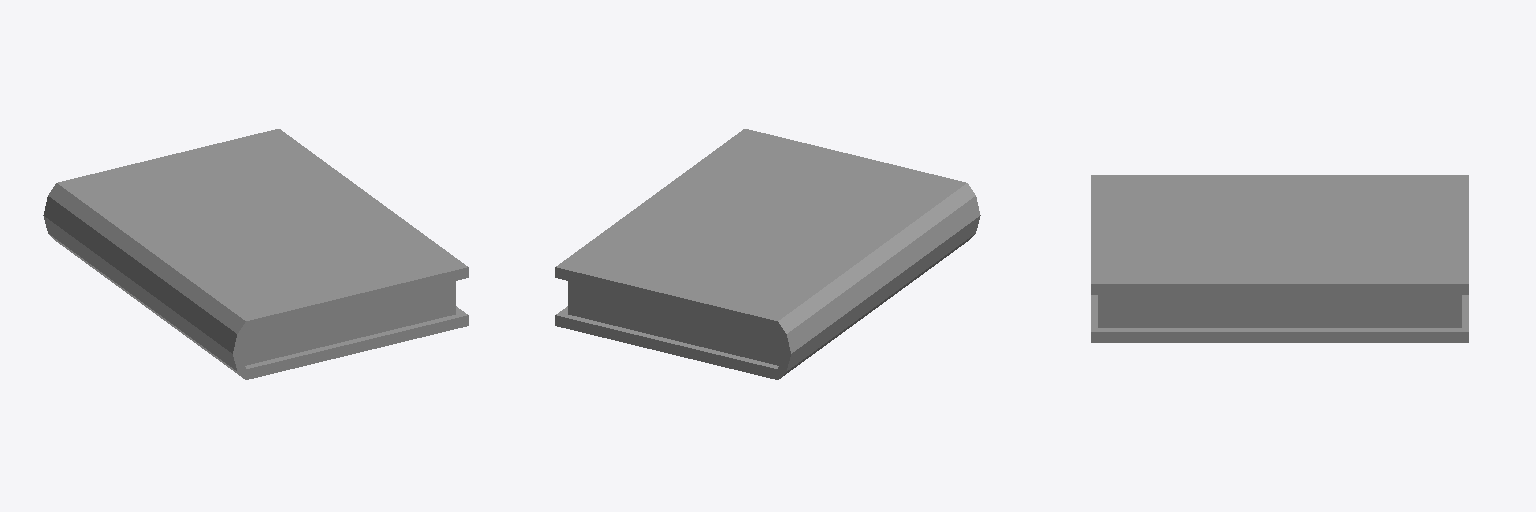
File: Thoth.obj
The picture shows the model from 3 angles: view 1: azimuth 30°, elevation 25°; view 2: azimuth 150°, elevation 25°; view 3: azimuth 270°, elevation 25°; orthographic projection.
Parts seen in each view (by area): view 1: Oingo.rip.002; view 2: Oingo.rip.002; view 3: Oingo.rip.002.
Part boxes in pixels (left/top/right/bottom): Oingo.rip.002: left=43, top=129, right=468, bottom=379; Oingo.rip.002: left=555, top=129, right=980, bottom=379; Oingo.rip.002: left=1091, top=175, right=1468, bottom=342.
Bounding box in the file's own units: 0.2164 × 0.0517 × 0.3013.